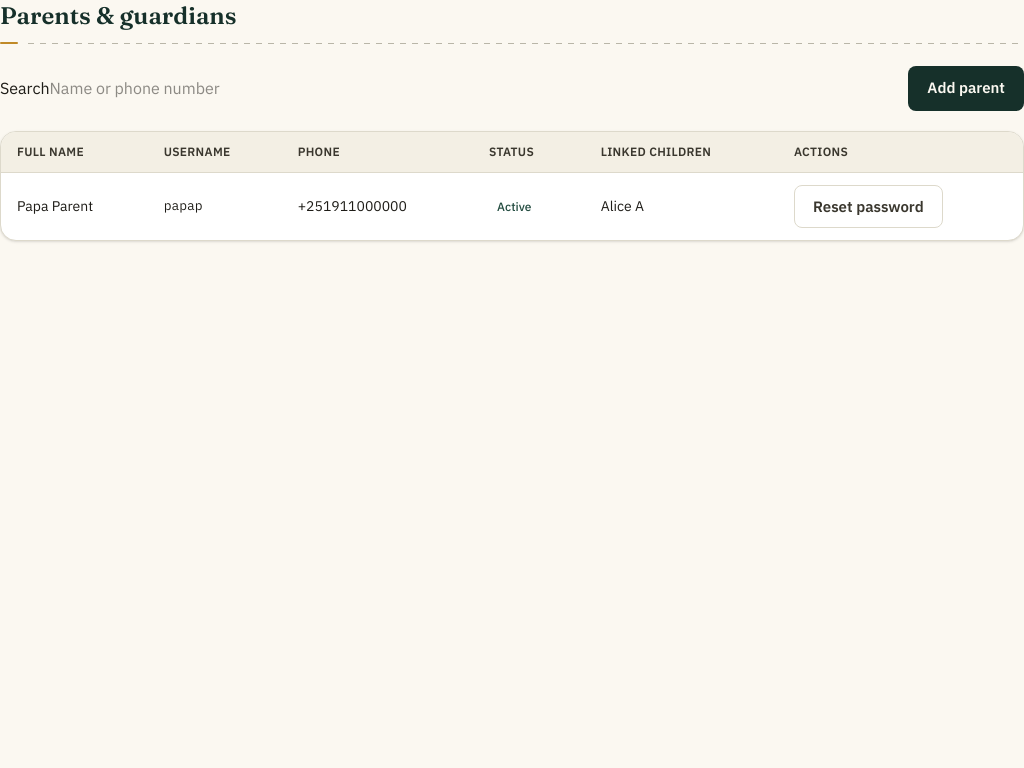
Scenario: ParentsPage — admin password reset › cancel closes the modal and does not call the API
Click the button "Reset password". click: [868, 206]
box: [794,184,943,228]
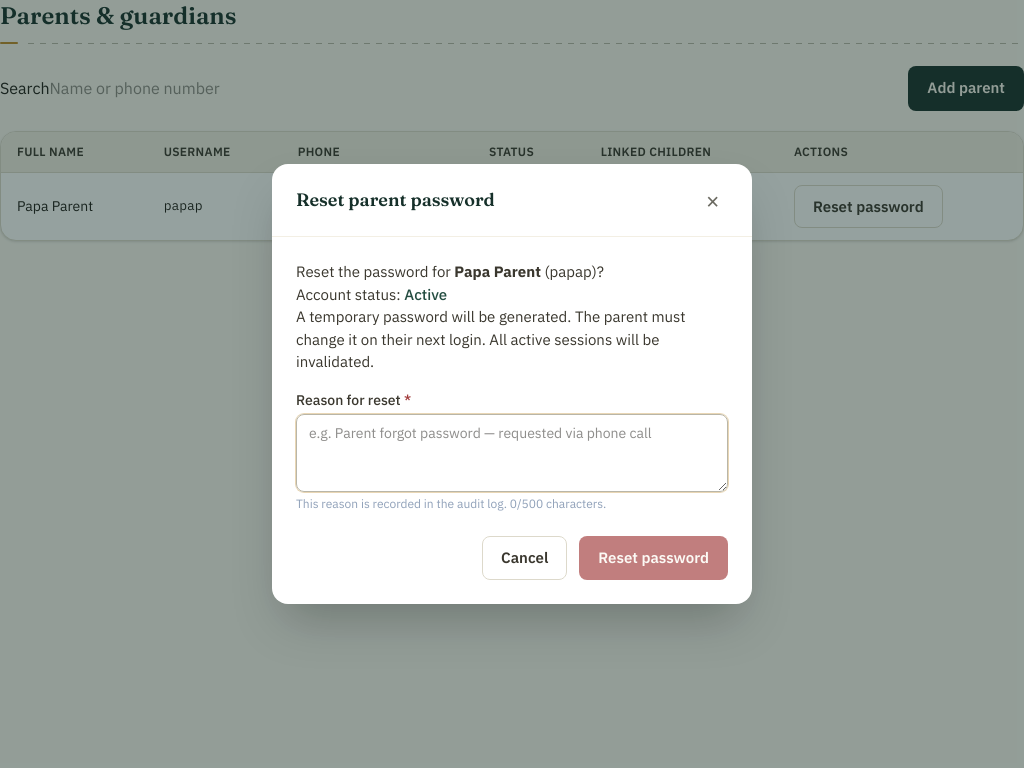
// Click Cancel
Click the button "Cancel". click: [525, 558]
box: [482,536,567,580]
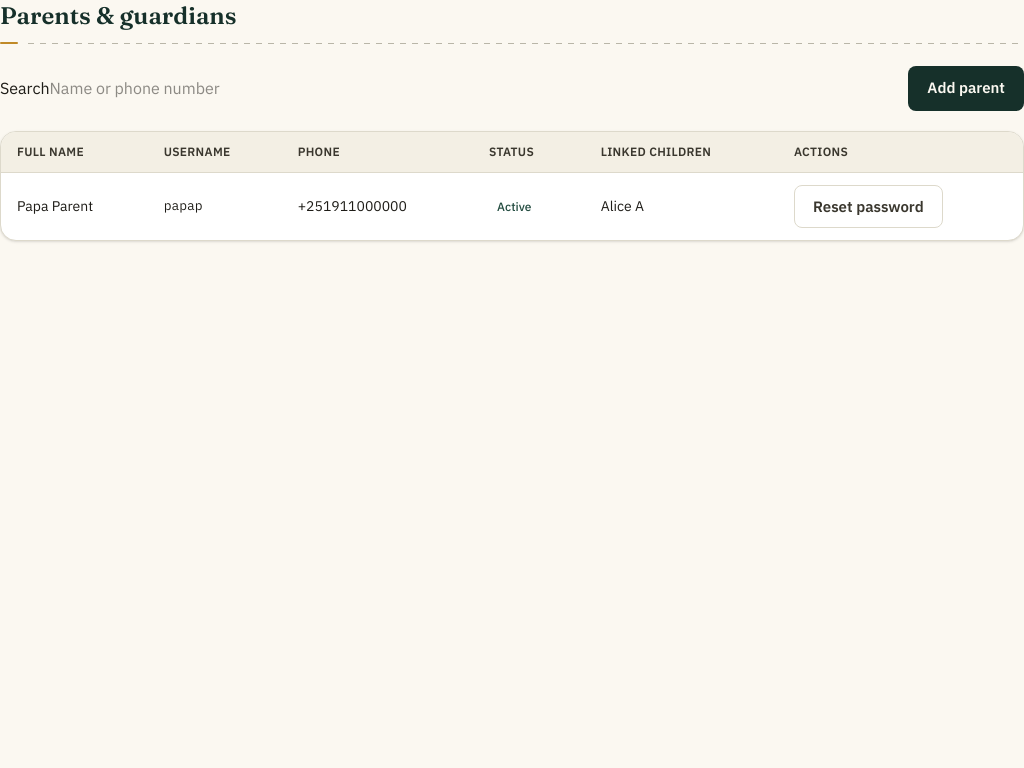
Result: the text "Reason for reset" is gone
